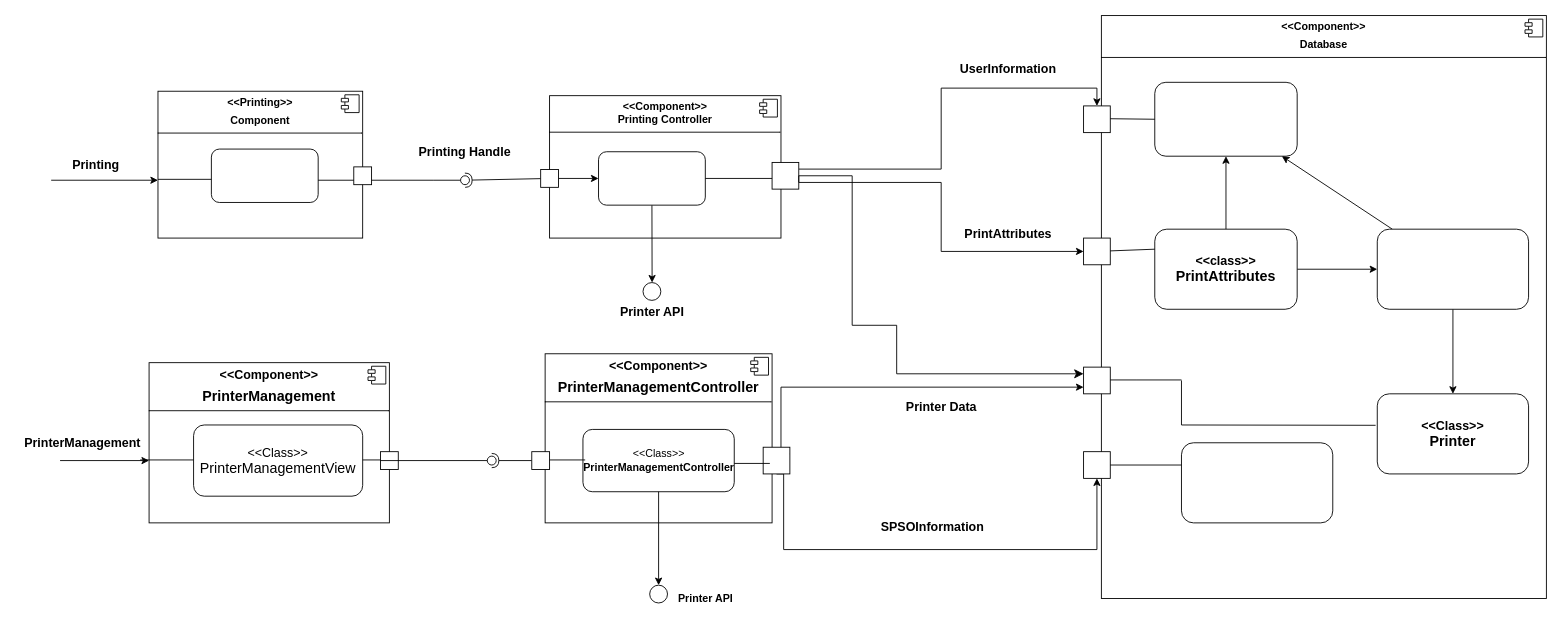
This 1562x627 diagram has some shape labels left out. The centre of each missing label's shape, as x and y in pixels:
"<< class>> Student" belongs at (x=1225, y=118).
"<<class>> Document" belongs at (x=1452, y=268).
"<<Class>> PrintingCotroller" belongs at (x=651, y=178).
"<<Class>> PrintingView" belongs at (x=264, y=175).
"<<class>> SPSO" belongs at (x=1257, y=482).
